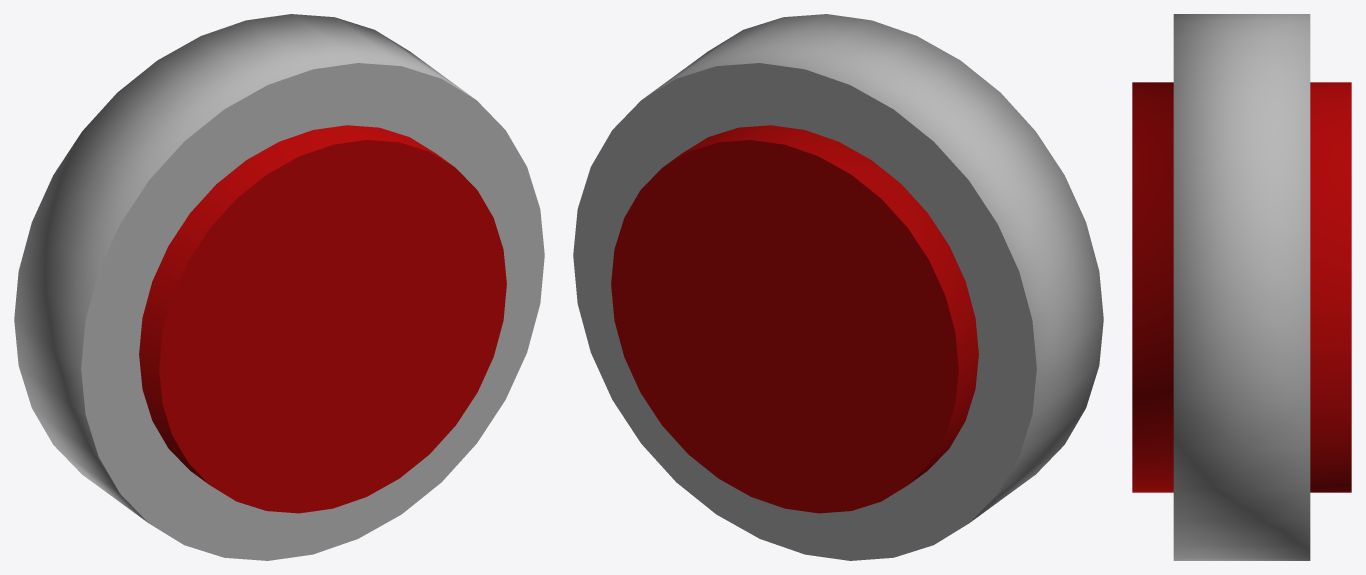
The model's file is miner.dae.
The picture shows the model from 3 angles, left to right: view 1: azimuth 30°, elevation 25°; view 2: azimuth 150°, elevation 25°; view 3: azimuth 270°, elevation 25°; orthographic projection. The views are drawn at different scales.
Visible parts, largest first — view 1: Cylinder; view 2: Cylinder; view 3: Cylinder.
Boxes of the visible parts, x1,y1,x2,y2 form: Cylinder: (14, 14, 544, 560); Cylinder: (573, 14, 1103, 560); Cylinder: (1132, 14, 1351, 560).
Bounding box in the file's own units: 2 × 0.8 × 2.
